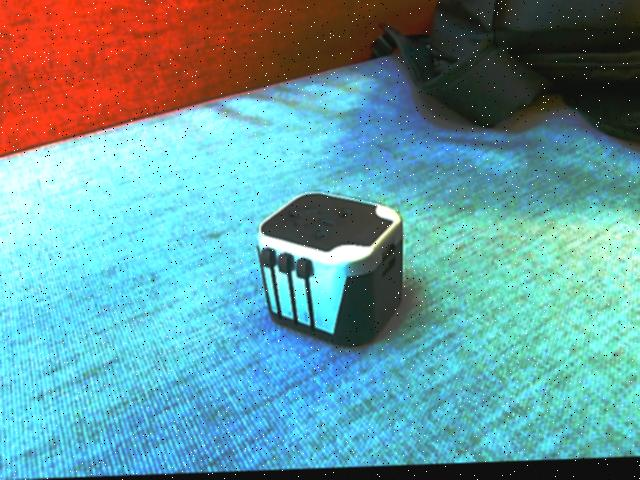adapter: (254, 190, 404, 353)
